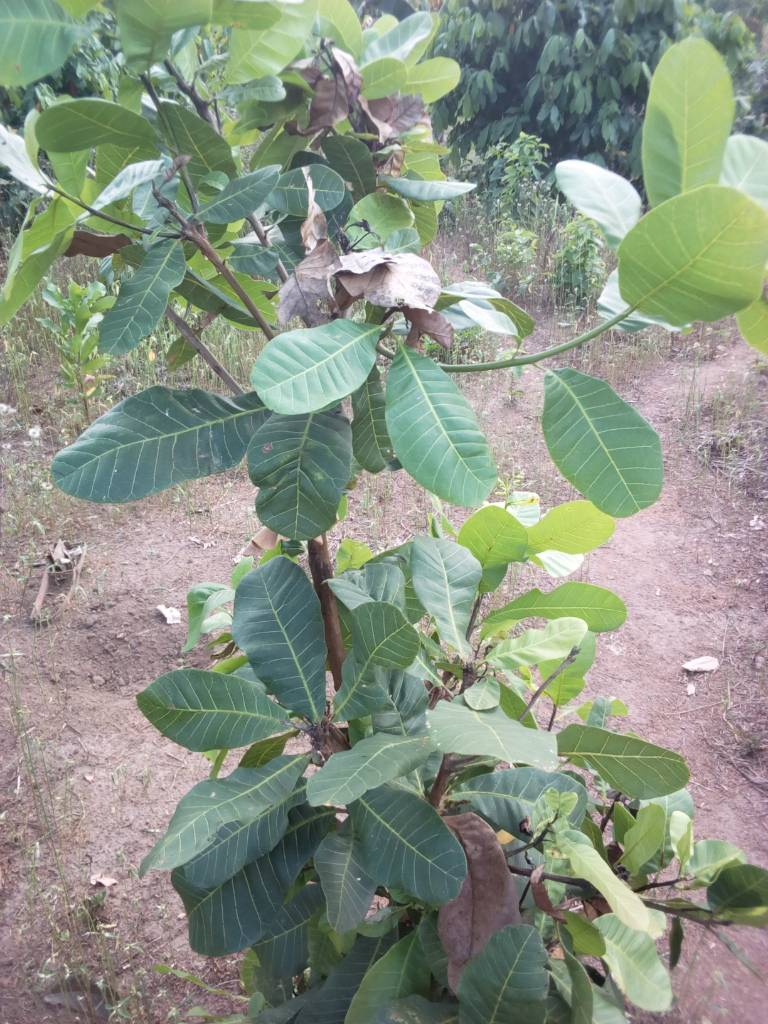Dessèchement des bourgeons: (299, 225, 438, 310), (309, 37, 365, 139)
